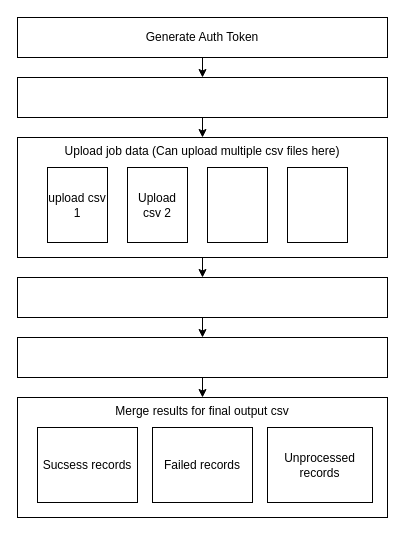
The diagram is 405 pixels wide and 535 high, and some of its shapes have lost their labels. Each missing label, with the centre of its shape:
Close Bulk Job (or Abort) by changing job state ( "state": "UploadComplete"): point 202,297
Create a Bulk Job: point 202,97
Monitor Job status until we get success or failure: point 202,357
